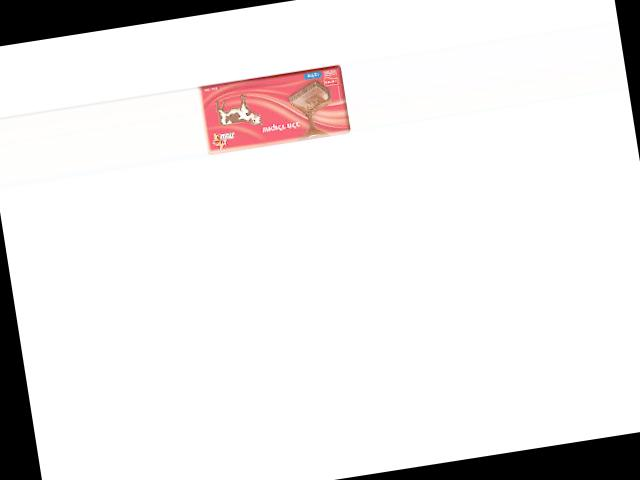chocolate: (196, 64, 351, 155)
